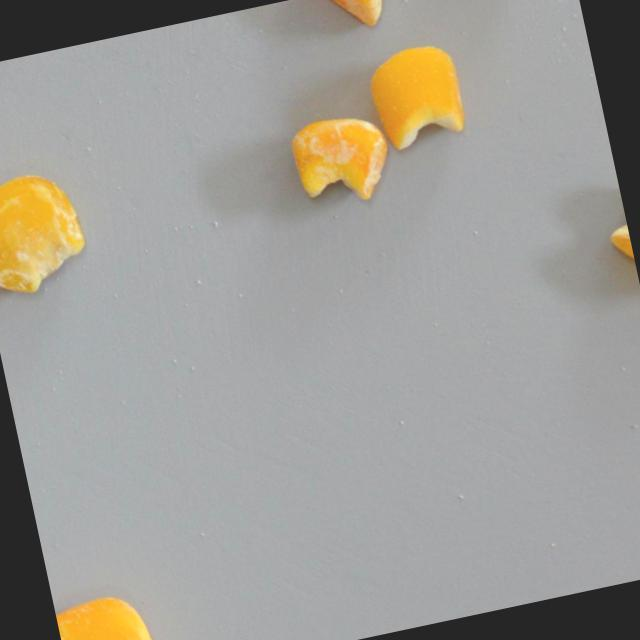no_canjicado: (362, 38, 468, 153)
pelicula: (0, 164, 95, 298), (283, 105, 397, 216), (54, 587, 153, 640), (597, 175, 640, 296), (307, 0, 427, 39)
